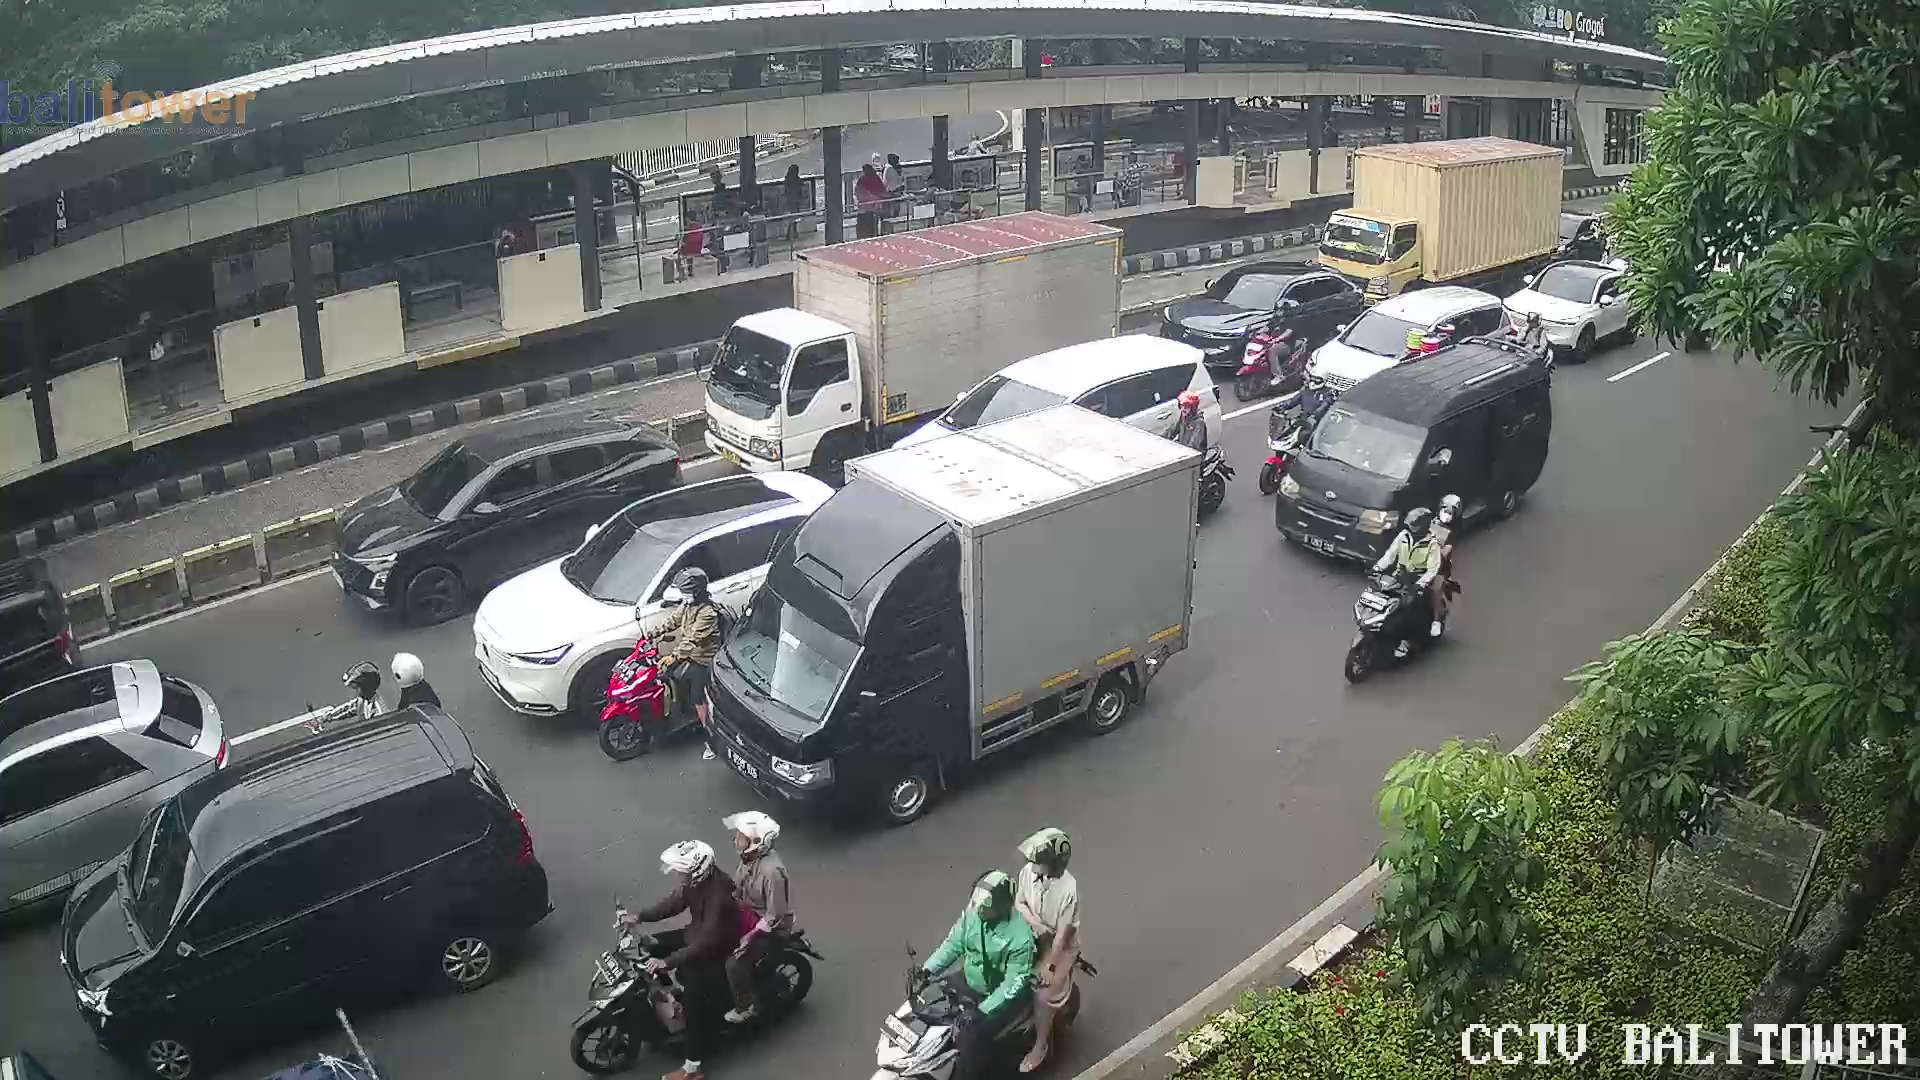full-face helmet: (1304, 357, 1339, 400)
half-face helmet: (719, 810, 788, 873), (1019, 829, 1086, 890), (963, 861, 1015, 933), (661, 831, 721, 892), (665, 565, 721, 626), (390, 637, 445, 696), (339, 663, 386, 704), (1398, 502, 1439, 545), (1437, 496, 1468, 537), (1178, 392, 1200, 422)
